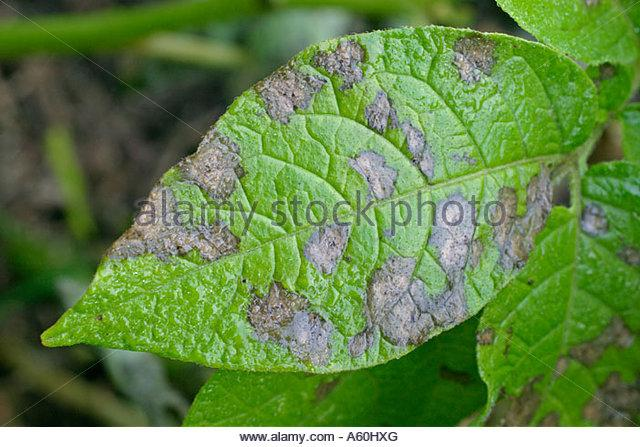Potato leaf late blight: (38, 24, 603, 380)
